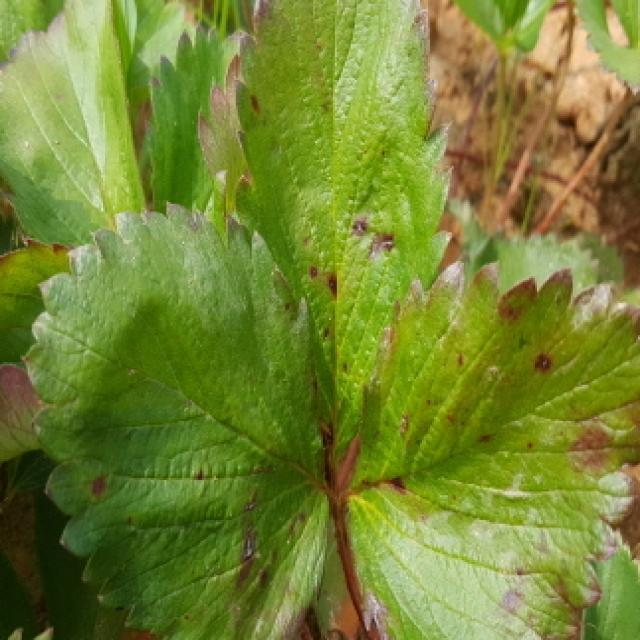Leaf Spot: (20, 201, 331, 640), (342, 262, 640, 640), (232, 0, 457, 474)
